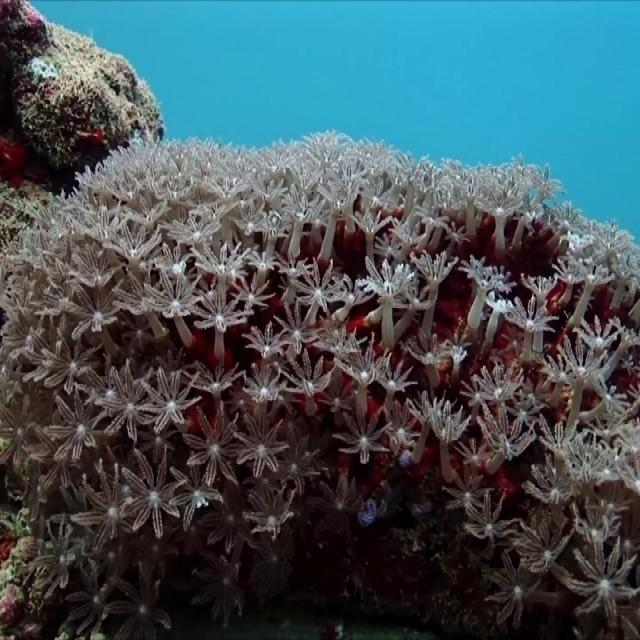reefs: (0, 130, 639, 639)
sea-floor: (0, 1, 162, 251)
